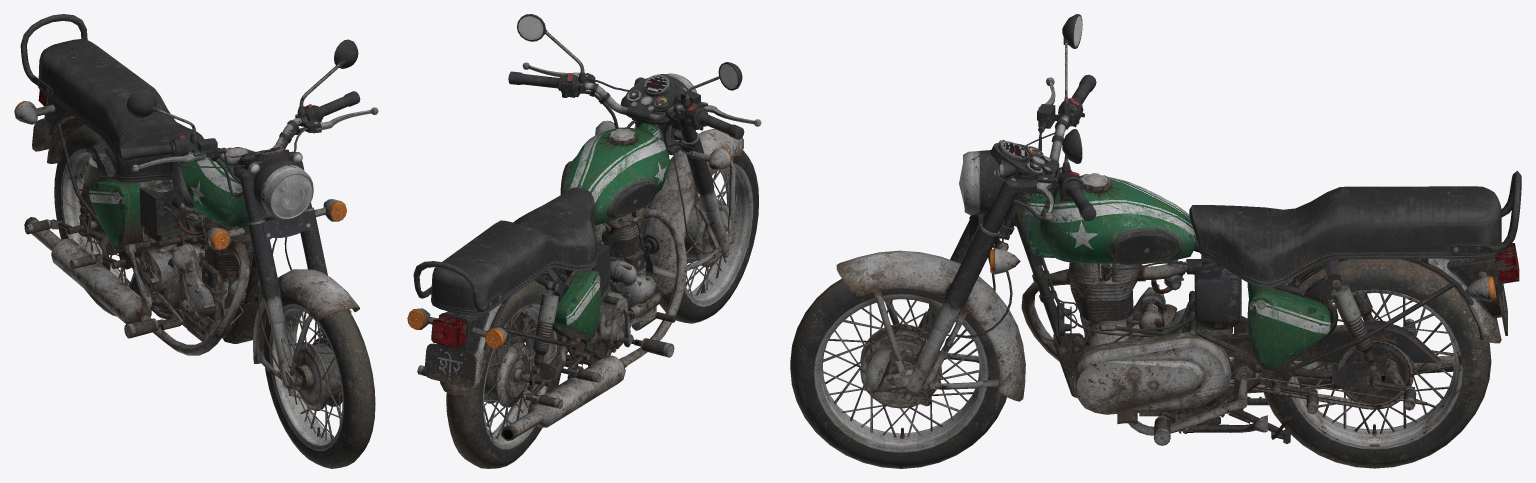
File: Bike_1k.glb
3 renders of one model, left to right at view 1: azimuth 30°, elevation 25°; view 2: azimuth 150°, elevation 25°; view 3: azimuth 270°, elevation 25°, orthographic. The views are drawn at different scales.
Parts seen in each view (by area): view 1: B_V_BK_01_Body_Lowpoly, B_V_BK_01_Wheel01_Lowpoly, B_V_BK_01_Wheel02_Lowpoly; view 2: B_V_BK_01_Body_Lowpoly, B_V_BK_01_Wheel02_Lowpoly, B_V_BK_01_Wheel01_Lowpoly; view 3: B_V_BK_01_Body_Lowpoly, B_V_BK_01_Wheel01_Lowpoly, B_V_BK_01_Wheel02_Lowpoly.
Part boxes in pixels (x1,y1,x2,y2): B_V_BK_01_Body_Lowpoly: (14,14,378,395); B_V_BK_01_Wheel01_Lowpoly: (263,296,375,468); B_V_BK_01_Wheel02_Lowpoly: (54,124,151,316); B_V_BK_01_Body_Lowpoly: (407,14,761,440); B_V_BK_01_Wheel02_Lowpoly: (446,280,561,468); B_V_BK_01_Wheel01_Lowpoly: (659,150,758,323); B_V_BK_01_Body_Lowpoly: (836,14,1521,445); B_V_BK_01_Wheel01_Lowpoly: (790,278,1006,468); B_V_BK_01_Wheel02_Lowpoly: (1259,259,1491,468).
Bounding box in the file's own units: 0.9632 × 1.28 × 2.15.
2 materials, 2 textured.
